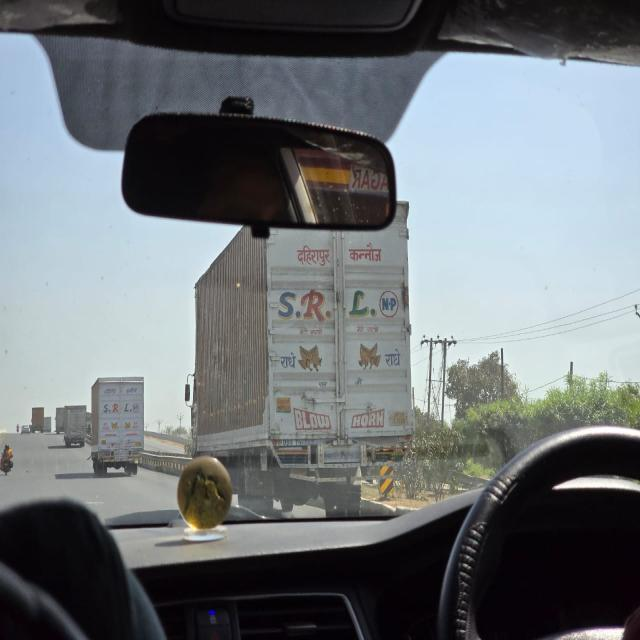uncovered: (186, 212, 428, 469), (84, 373, 155, 476)
